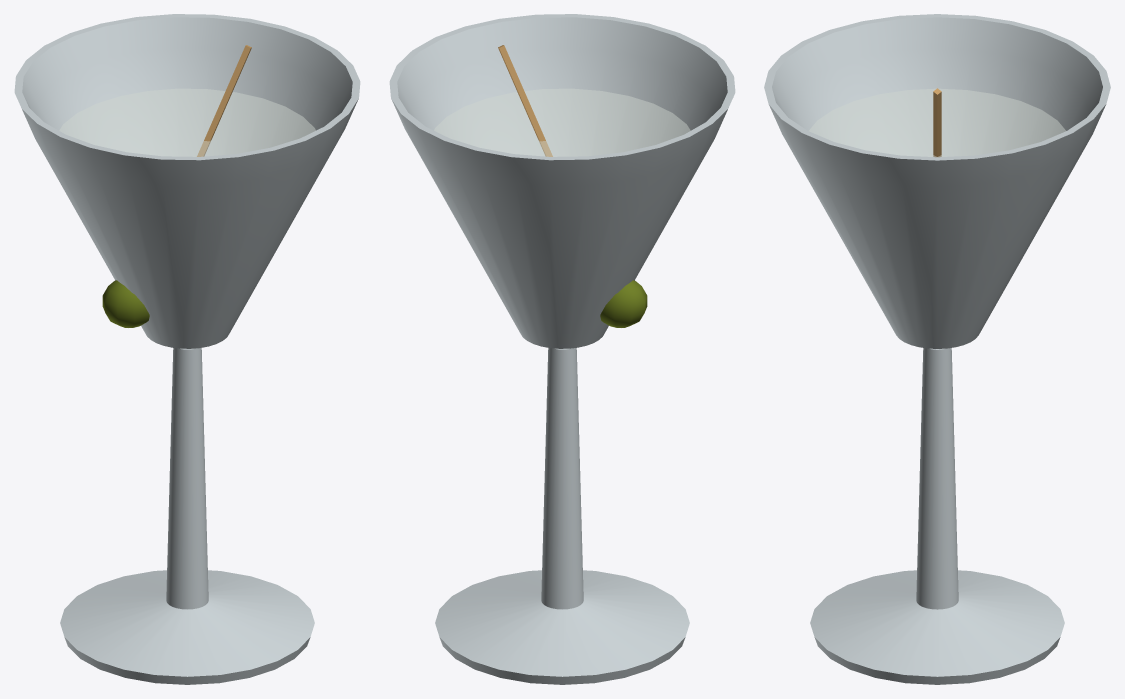
File: cocktail_martini_olive.glb
3 renders of one model, left to right at view 1: azimuth 30°, elevation 25°; view 2: azimuth 150°, elevation 25°; view 3: azimuth 270°, elevation 25°, orthographic.
Parts seen in each view (by area): view 1: cocktail_martini_olive; view 2: cocktail_martini_olive; view 3: cocktail_martini_olive.
Boxes of the visible parts, <box> form: cocktail_martini_olive: <box>14,14,360,684</box>; cocktail_martini_olive: <box>389,14,735,684</box>; cocktail_martini_olive: <box>764,14,1110,684</box>.
Size of the model in its own units: 0.098 by 0.1785 by 0.098.
